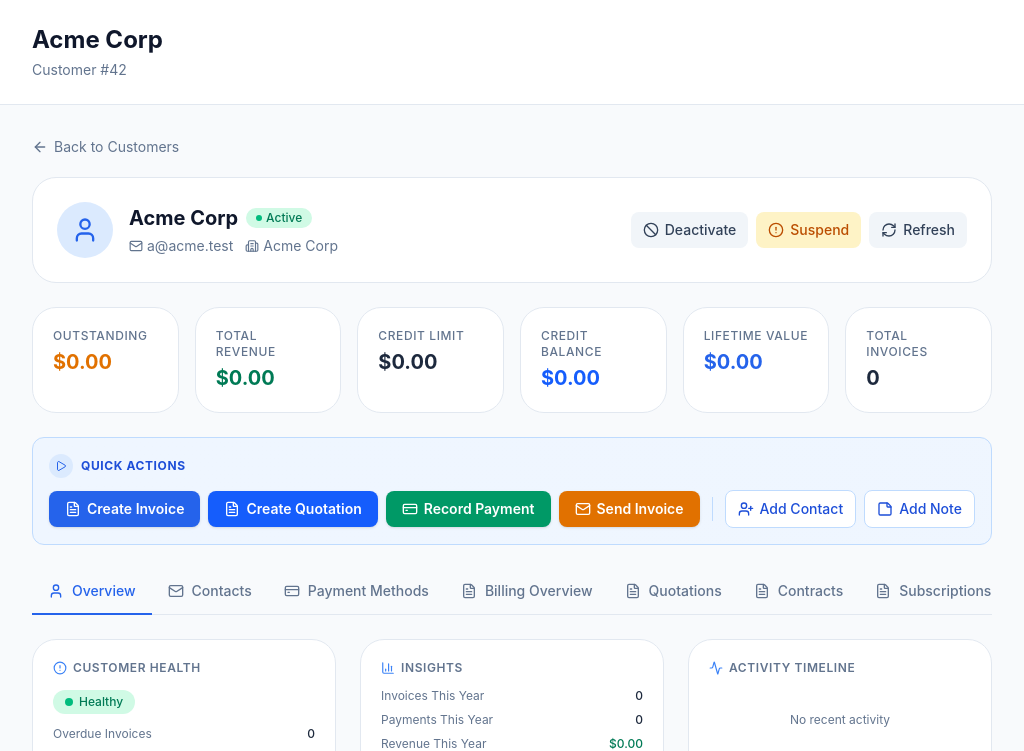
Test: Customer profile ConfirmModal › opens titled, focuses Cancel (danger), and Confirm deactivates and closes
Click the button "Deactivate" at (689, 230), box [631,212,748,248]
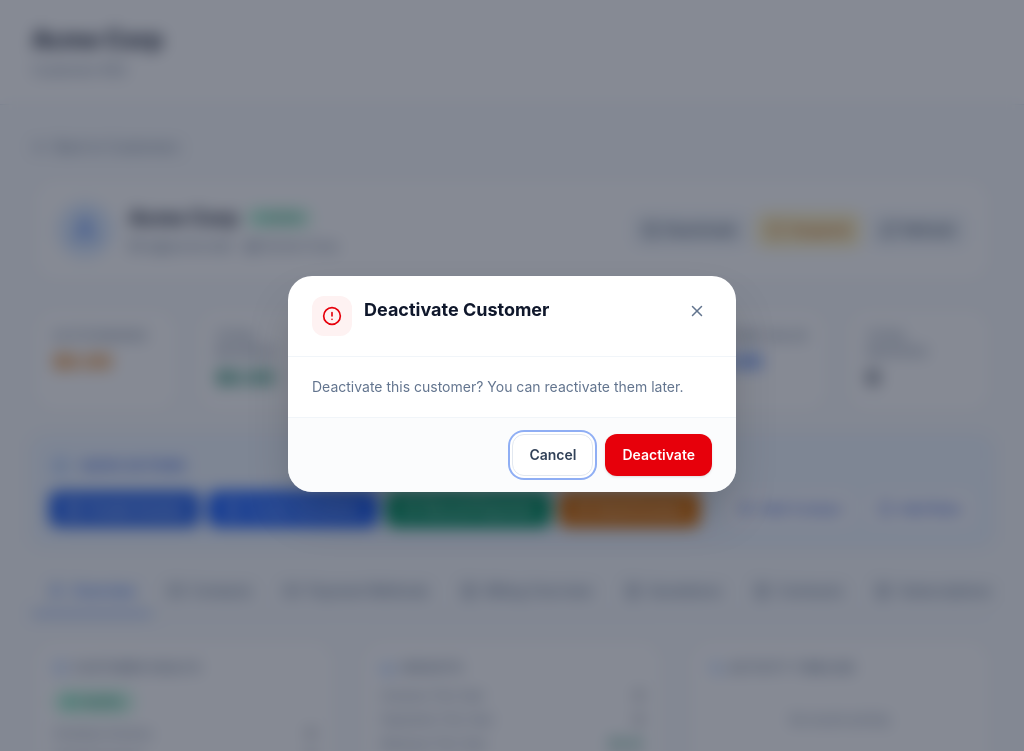
Click the button "Deactivate" at (659, 455), box [605,434,712,476]
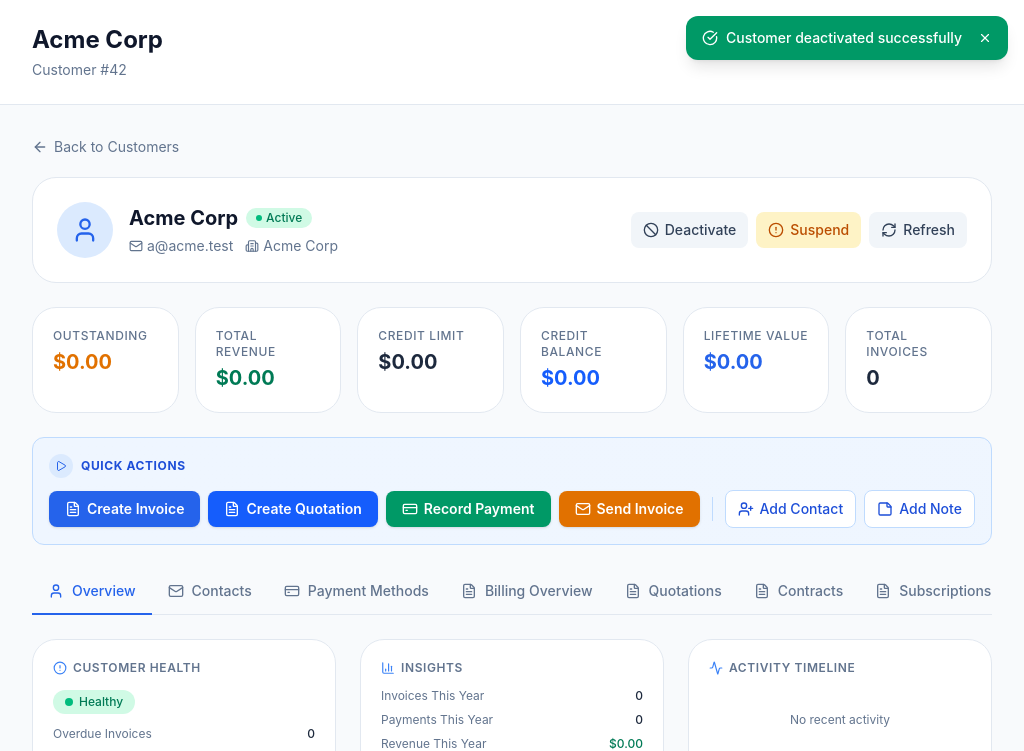
Expected: the heading "Deactivate Customer" is gone
